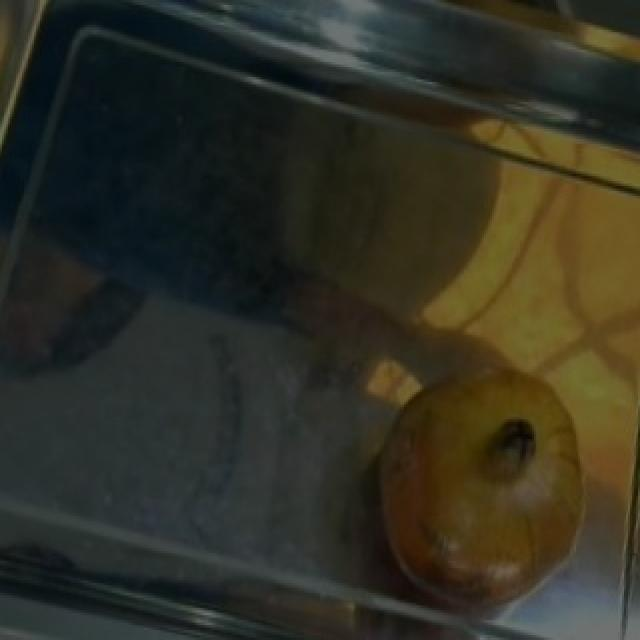fruit: (356, 347, 608, 625)
